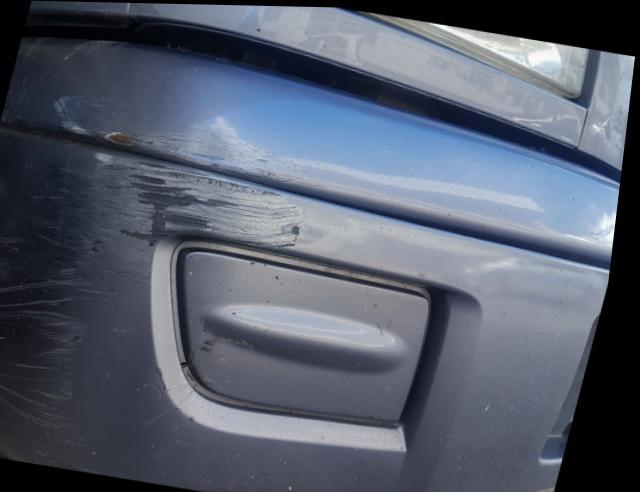scratch: (0, 92, 318, 474)
